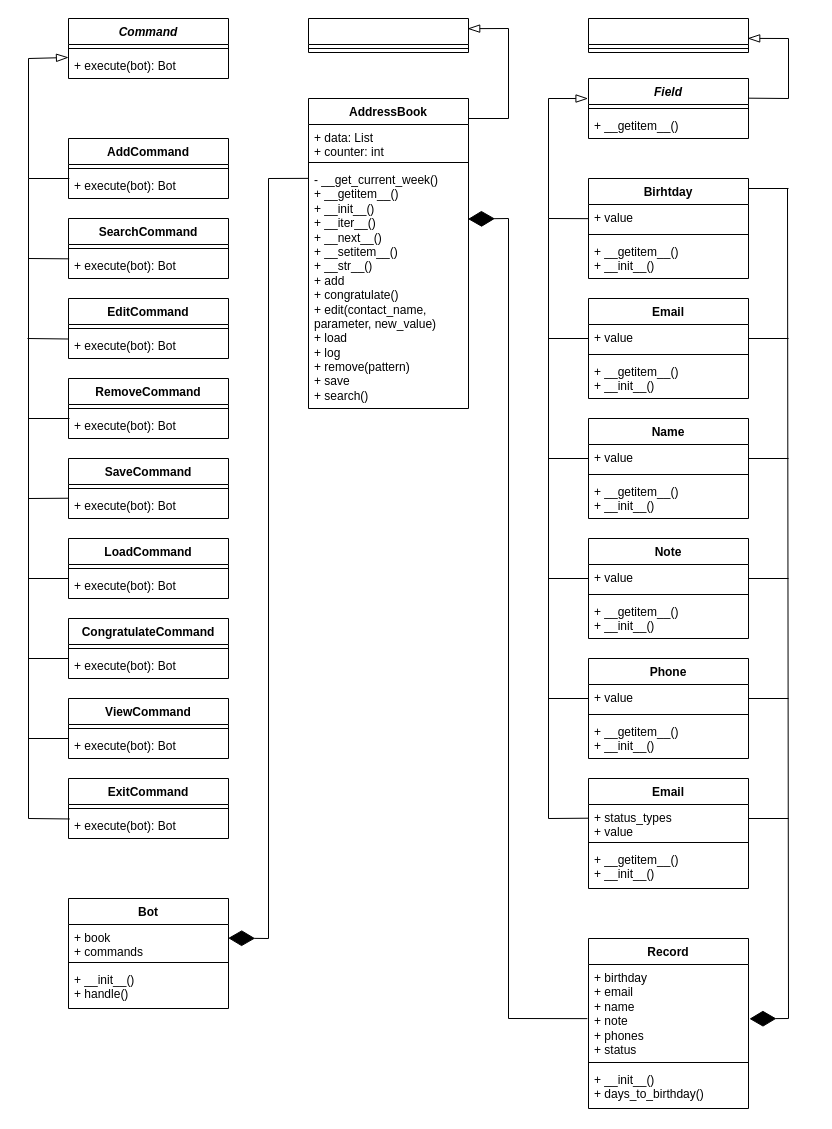
The diagram is 832 pixels wide and 1129 high, and some of its shapes have lost their labels. Each missing label, with the centre of its shape:
"ABC" goes at pixel 668 35.
"UserList" goes at pixel 388 35.
